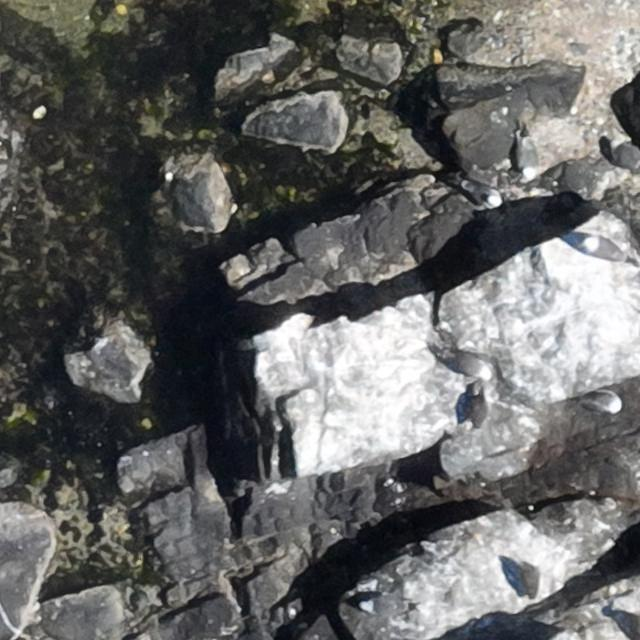umineko: (579, 238, 628, 264), (517, 132, 541, 178), (610, 138, 640, 174), (445, 354, 492, 376), (462, 183, 499, 207), (586, 394, 619, 414), (360, 597, 386, 613)
